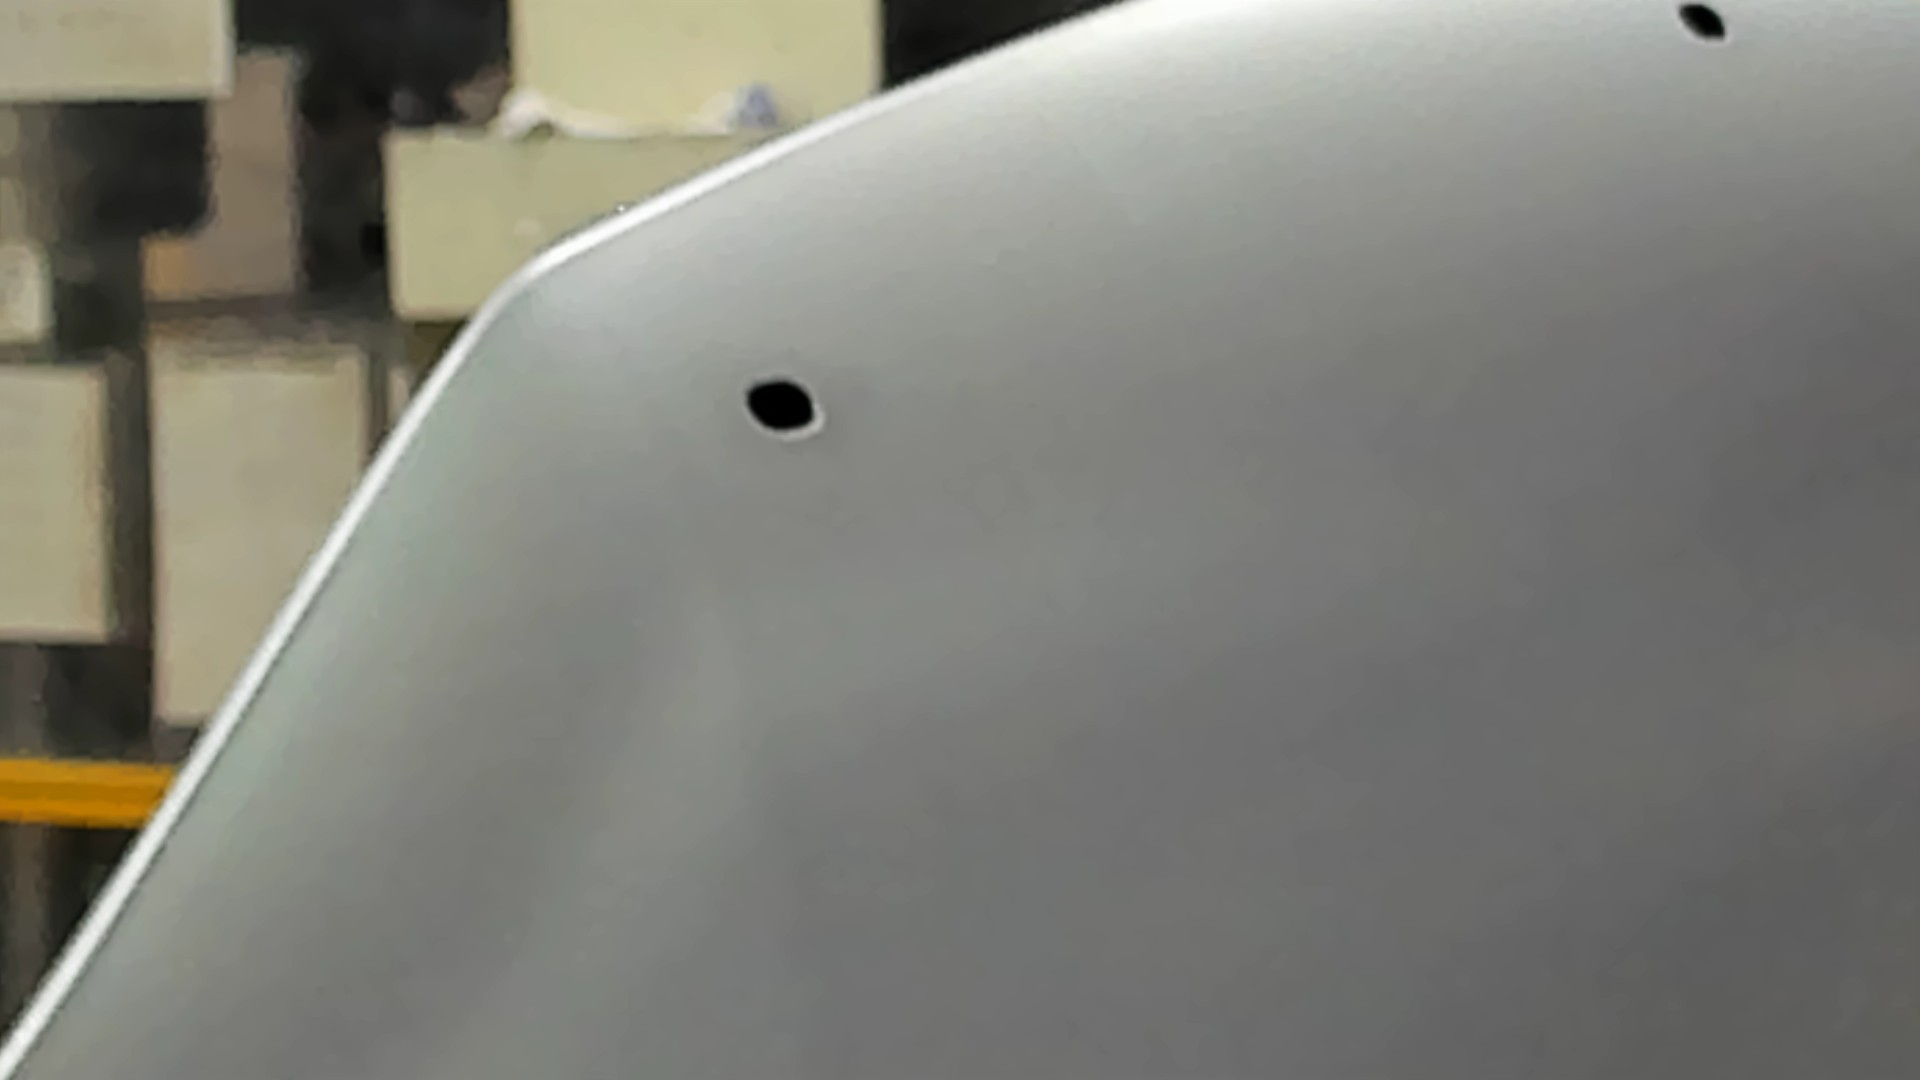amorfo: (736, 375, 833, 444), (1675, 1, 1742, 49)
capo: (919, 116, 1920, 1080)
